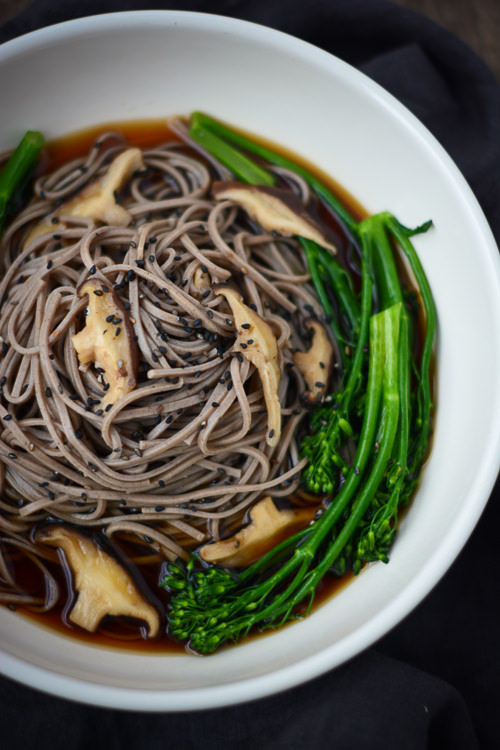Soba: (4, 151, 367, 539)
